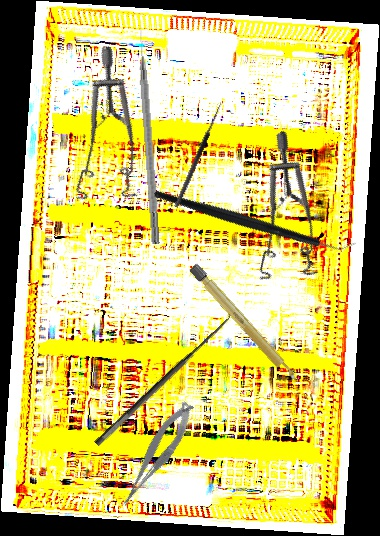Chopper: (152, 126, 359, 313)
Hook Surgical: (83, 303, 237, 449), (168, 98, 224, 209), (135, 24, 162, 245)
Micro Scissor: (108, 398, 204, 510)
Scalpel Handle: (187, 262, 301, 386)
Speculum: (20, 43, 177, 222), (201, 129, 356, 300)
